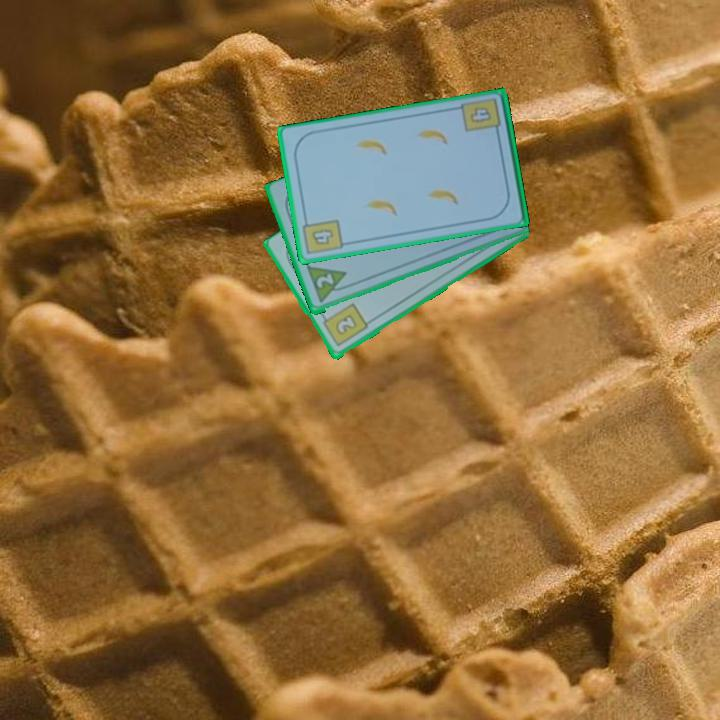2b: (318, 300, 371, 350)
2p: (303, 263, 353, 306)
4b: (300, 214, 346, 258), (466, 104, 494, 126)
